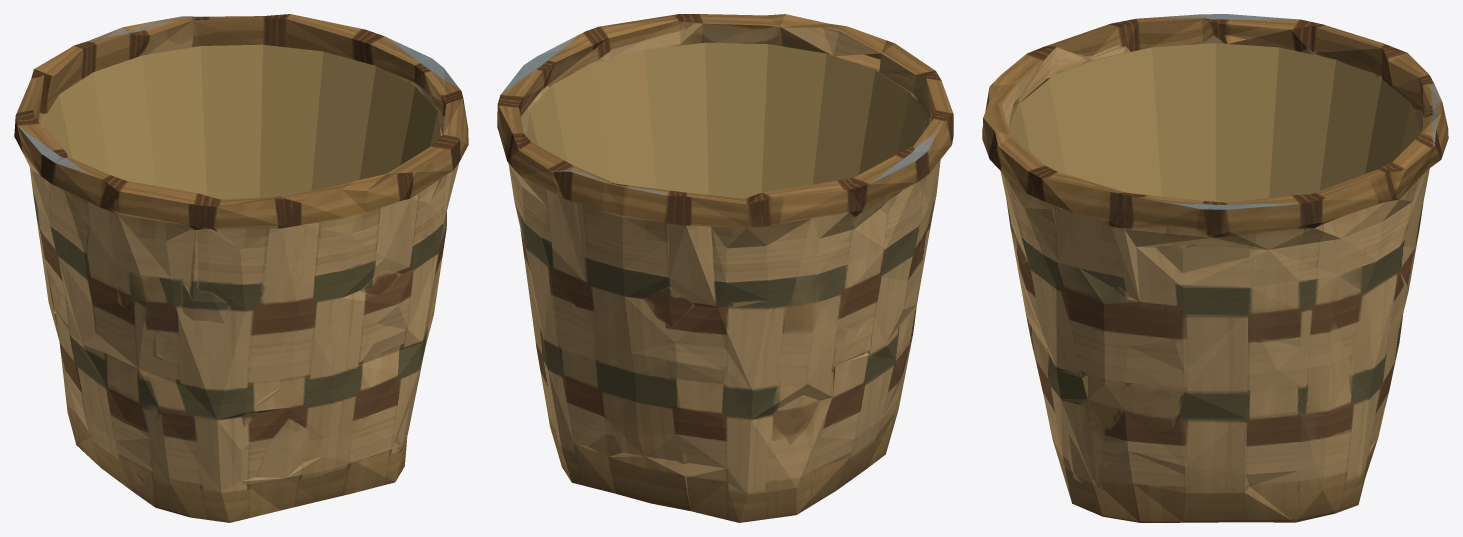
Rendered from S10_rice_basket_a.glb.
3 renders of one model, left to right at view 1: azimuth 30°, elevation 25°; view 2: azimuth 150°, elevation 25°; view 3: azimuth 270°, elevation 25°, orthographic. The views are drawn at different scales.
Parts seen in each view (by area): view 1: Mesh_0; view 2: Mesh_0; view 3: Mesh_0.
Boxes of the visible parts, box(x1,y1,x2,y2) form: Mesh_0: box(14, 14, 468, 522); Mesh_0: box(497, 14, 953, 522); Mesh_0: box(982, 14, 1448, 522).
Bounding box in the file's own units: 0.708 × 0.6 × 0.7094.
2 materials, 1 textured.
